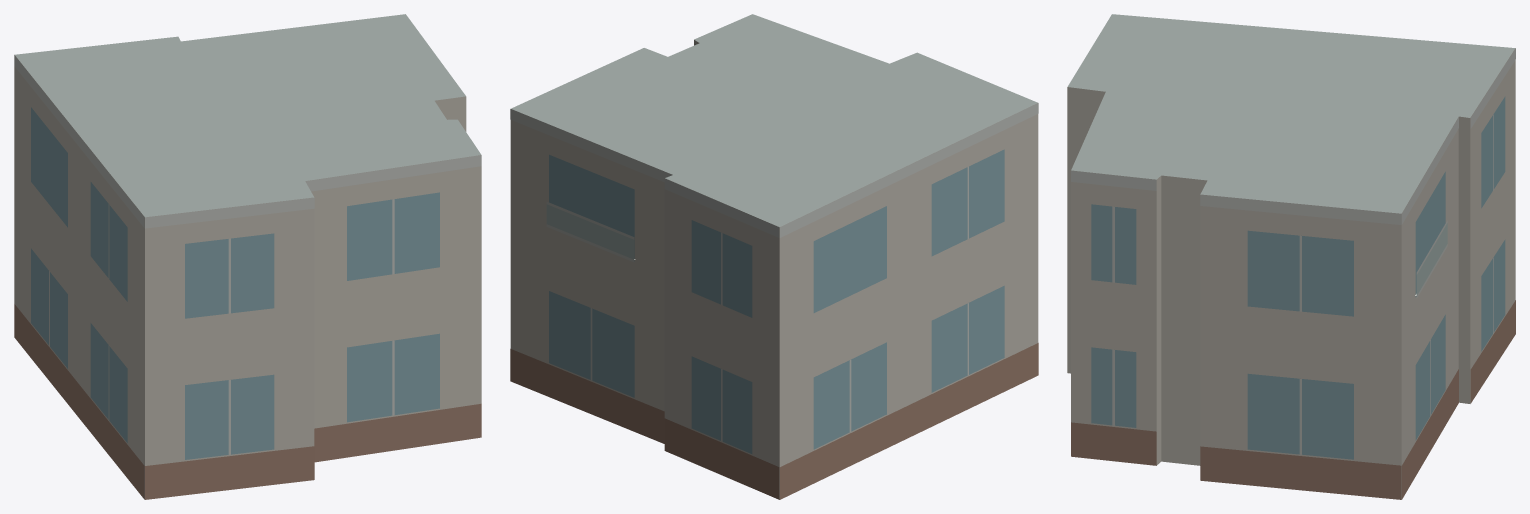
File: survey-upis-32465060.glb
3 views of the same model, side by side, from view 1: azimuth 30°, elevation 25°; view 2: azimuth 150°, elevation 25°; view 3: azimuth 270°, elevation 25° (orthographic). The views are drawn at different scales.
Parts seen in each view (by area): view 1: survey-upis-32465060.tmp; view 2: survey-upis-32465060.tmp; view 3: survey-upis-32465060.tmp.
Part boxes in pixels (x1=…): survey-upis-32465060.tmp: x1=14, y1=14, x2=481, y2=499; survey-upis-32465060.tmp: x1=510, y1=14, x2=1038, y2=499; survey-upis-32465060.tmp: x1=1067, y1=14, x2=1515, y2=499.
Size of the model in its own units: 9.14 by 6.1 by 8.67.
